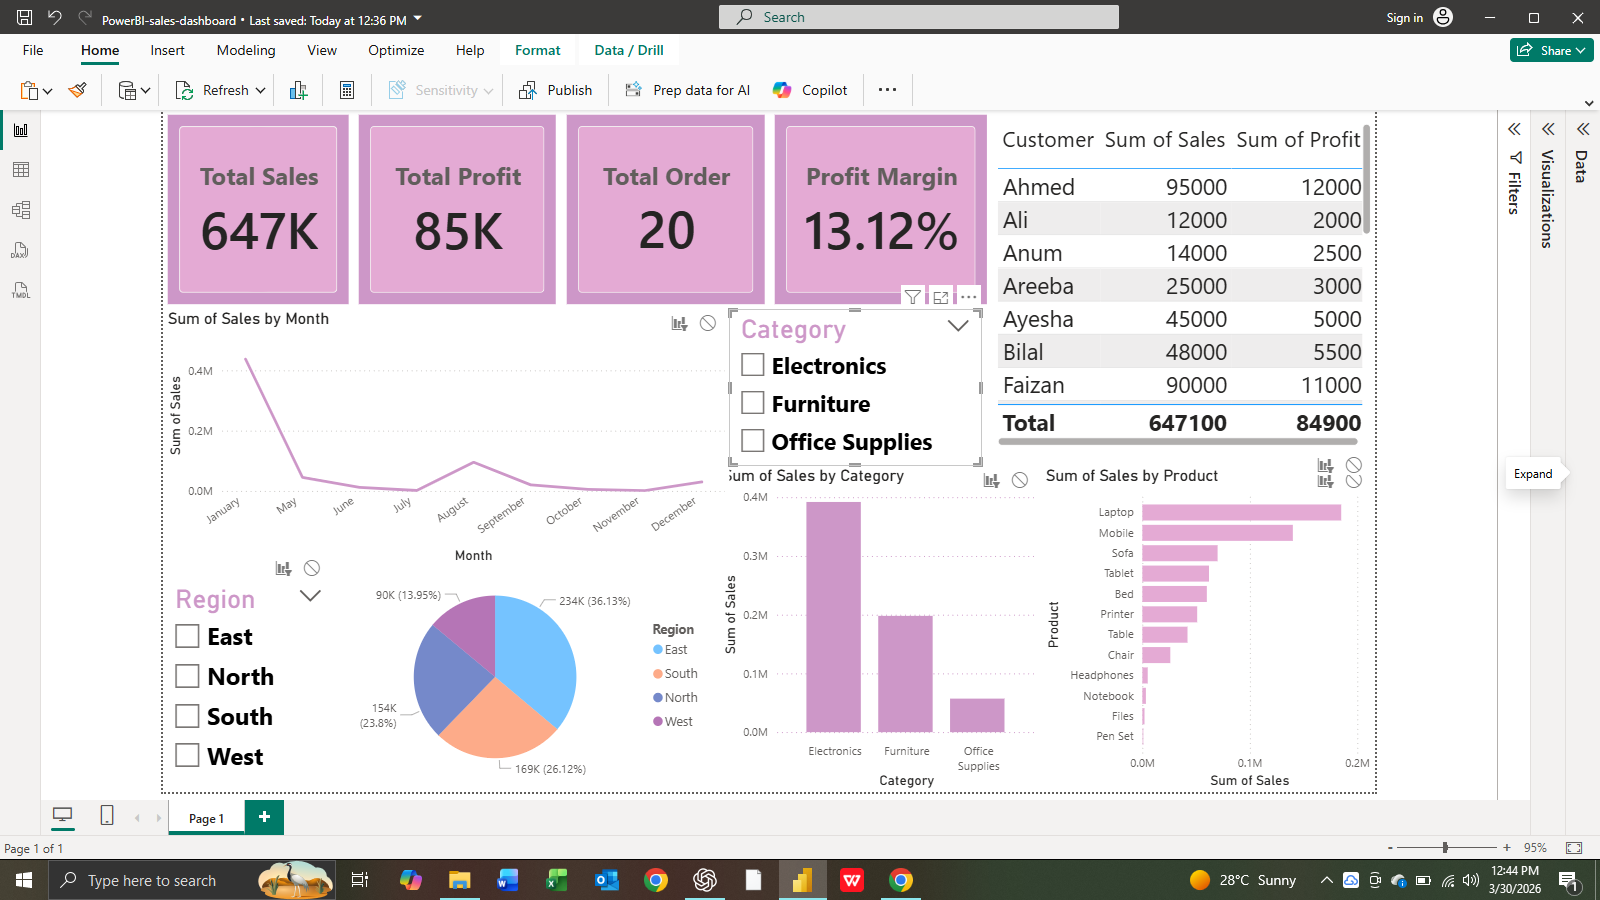

The dashboard page shown, as its layout file describes it:
{"tool":"powerbi","page":{"name":"Page 1","canvas":[1280,720],"ordinal":0},"visuals":[{"type":"cardVisual","fields":{"Data":["SALES.Total Sales"]},"box":[0,0,201.1,210.4],"z":0},{"type":"cardVisual","fields":{"Data":["SALES.Total Profit -"]},"box":[201.1,0,218.4,210.4],"z":1000},{"type":"cardVisual","fields":{"Data":["SALES.Total Order"]},"box":[420.9,0,219.8,210.4],"z":2000},{"type":"cardVisual","fields":{"Data":["SALES.Profit Margin"]},"box":[640.7,0,234.4,210.4],"z":3000},{"type":"clusteredColumnChart","fields":{"Category":["SALES.Category"],"Y":["Sum(SALES.Sales)"]},"box":[586.1,375.6,341,345],"z":4000},{"type":"pieChart","fields":{"Category":["SALES.Region"],"Y":["Sum(SALES.Sales)"]},"box":[179.8,456.9,406.2,263.7],"z":5000},{"type":"lineChart","fields":{"Category":["SALES.Order_Date.Variation.Date Hierarchy.Month"],"Y":["Sum(SALES.Sales)"]},"box":[0,210.4,598,273],"z":6000},{"type":"slicer","fields":{"Values":["SALES.Region"]},"box":[0,495.5,179.8,225.1],"z":8000},{"type":"slicer","fields":{"Values":["SALES.Category"]},"box":[598,210.4,266.4,165.2],"z":9000},{"type":"clusteredBarChart","fields":{"Category":["SALES.Product"],"Y":["Sum(SALES.Sales)"]},"box":[927,375.6,353,345],"z":9001},{"type":"tableEx","fields":{"Values":["SALES.Customer","Sum(SALES.Sales)","Sum(SALES.Profit)"]},"box":[875.1,9.3,404.9,350.3],"z":9002}]}

Visuals, with their boxes on the page's 1280x720 design canvas (x1, y1, x2, y2). These are canvas units, not pixel positions in the 1600x900 screenshot, which may show the page scaled, cropped or inside an application window:
cardVisual - SALES.Total Sales: x1=0, y1=0, x2=201, y2=210
cardVisual - SALES.Total Profit -: x1=201, y1=0, x2=420, y2=210
cardVisual - SALES.Total Order: x1=421, y1=0, x2=641, y2=210
cardVisual - SALES.Profit Margin: x1=641, y1=0, x2=875, y2=210
clusteredColumnChart - SALES.Category x Sum(SALES.Sales): x1=586, y1=376, x2=927, y2=721
pieChart - SALES.Region x Sum(SALES.Sales): x1=180, y1=457, x2=586, y2=721
lineChart - SALES.Order_Date.Variation.Date Hierarchy.Month x Sum(SALES.Sales): x1=0, y1=210, x2=598, y2=483
slicer - SALES.Region: x1=0, y1=496, x2=180, y2=721
slicer - SALES.Category: x1=598, y1=210, x2=864, y2=376
clusteredBarChart - SALES.Product x Sum(SALES.Sales): x1=927, y1=376, x2=1280, y2=721
tableEx - SALES.Customer x Sum(SALES.Sales): x1=875, y1=9, x2=1280, y2=360
